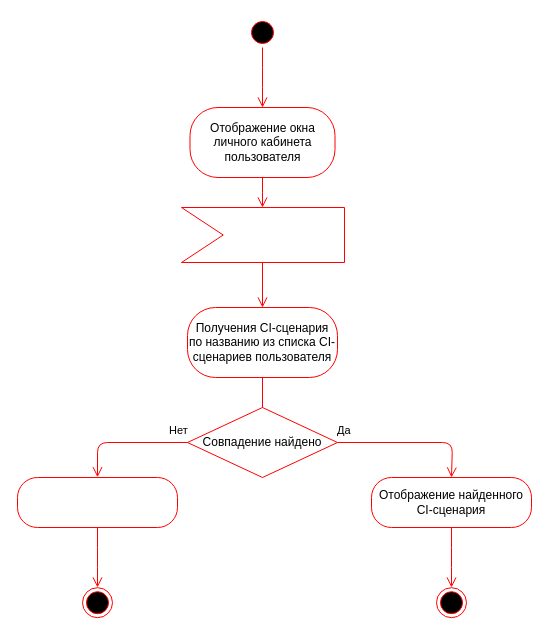
This 549x636 diagram has some shape labels left out. The shapes that lost their labels are listed below. From the top down, each one's box as (x1, y1, x2, y2) in pixels, then its label:
(180, 206, 344, 262): Нажатие на кнопку "Search"
(16, 476, 178, 528): Отображение пустого списка CI-сценариев
